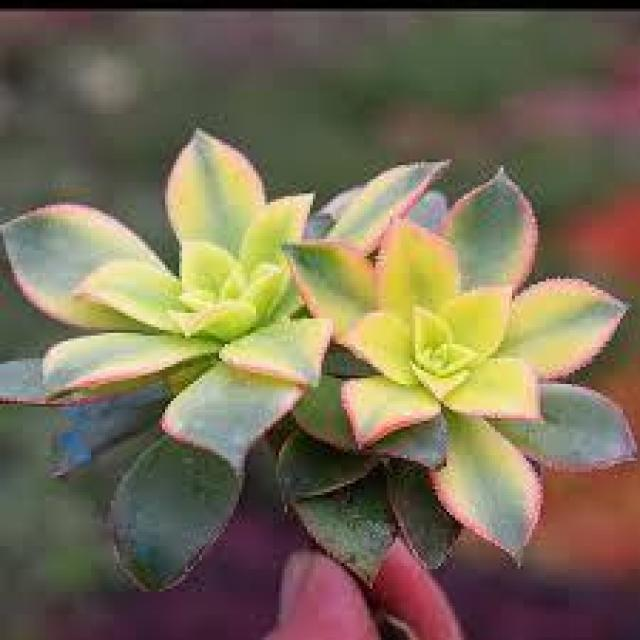organic waste: (235, 158, 633, 562), (13, 152, 411, 502)
